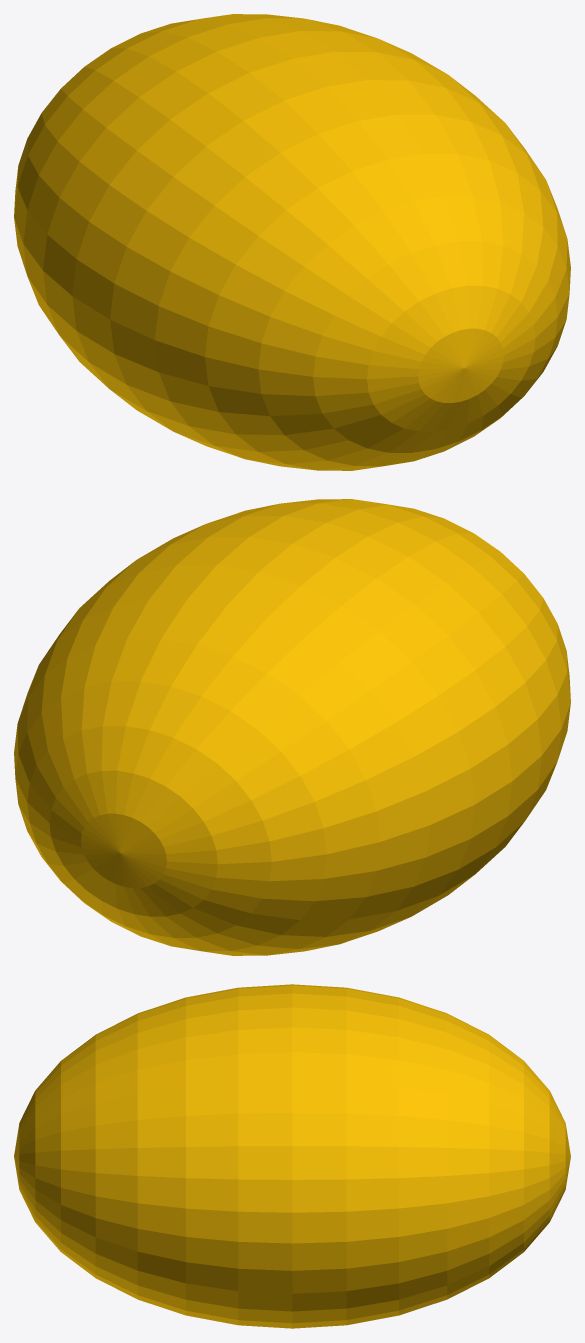
Rendered from MeteorBullet.fbx.
3 renders of one model, top to bottom at view 1: azimuth 30°, elevation 25°; view 2: azimuth 150°, elevation 25°; view 3: azimuth 270°, elevation 25°, orthographic. The views are drawn at different scales.
Visible parts, largest first — view 1: MeteorBullet; view 2: MeteorBullet; view 3: MeteorBullet.
Part boxes in pixels (bbox=[...]): MeteorBullet: bbox=[14, 14, 570, 470]; MeteorBullet: bbox=[14, 499, 570, 955]; MeteorBullet: bbox=[14, 984, 570, 1328].
Size of the model in its own units: 1.03 by 1.39 by 0.8192.
